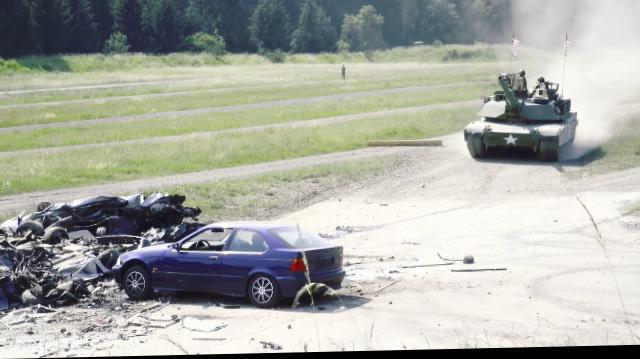tank: (472, 94, 572, 161)
